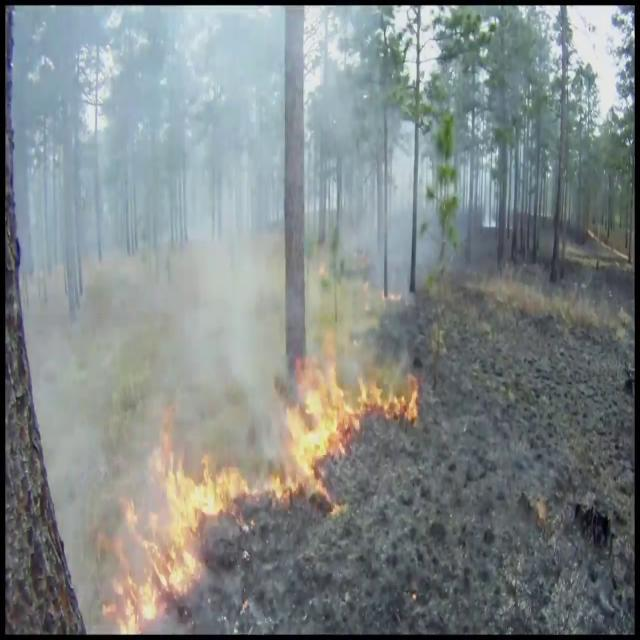Fire: (104, 429, 302, 627), (285, 311, 422, 489)
Smoke: (14, 6, 436, 429)
